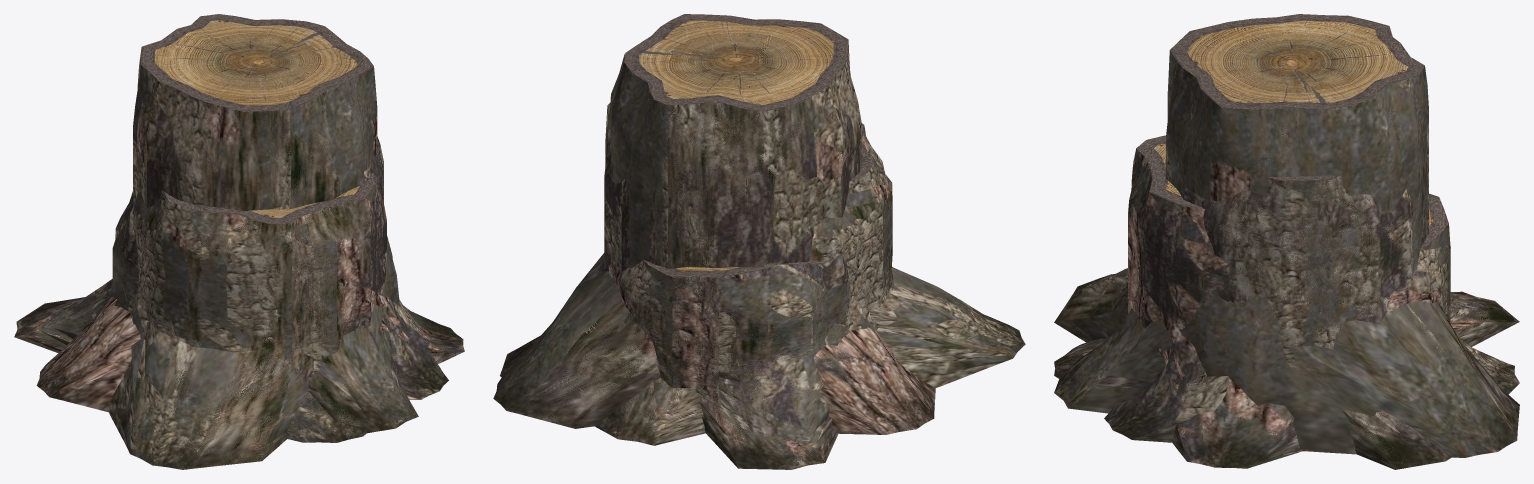
Rendered from stumpf.glb.
3 renders of one model, left to right at view 1: azimuth 30°, elevation 25°; view 2: azimuth 150°, elevation 25°; view 3: azimuth 270°, elevation 25°, orthographic. The views are drawn at different scales.
Visible parts, largest first — view 1: stumpf_0_1, stumpf_0_2, stumpf_2_2, stumpf_4_2, stumpf_4_1, stumpf_1_1, stumpf_2_1, stumpf_1_2, stumpf_3_0, stumpf_3_2, stumpf_4_3, stumpf_1_3 (+5 smaller); view 2: stumpf_1_1, stumpf_0_1, stumpf_2_1, stumpf_4_1, stumpf_2_2, stumpf_4_3, stumpf_1_3, stumpf_2_3, stumpf_3_0, stumpf_0_3, stumpf_4_2, stumpf_3_3 (+7 smaller); view 3: stumpf_4_1, stumpf_2_0, stumpf_1_0, stumpf_1_1, stumpf_0_1, stumpf_1_2, stumpf_3_2, stumpf_2_1, stumpf_4_0, stumpf_0_0, stumpf_0_2, stumpf_4_2 (+7 smaller).
Part boxes in pixels (x1=…): stumpf_0_1: x1=137, y1=14, x2=401, y2=433; stumpf_0_2: x1=109, y1=185, x2=461, y2=469; stumpf_2_2: x1=109, y1=181, x2=462, y2=469; stumpf_4_2: x1=114, y1=180, x2=459, y2=469; stumpf_4_1: x1=132, y1=14, x2=418, y2=425; stumpf_1_1: x1=133, y1=15, x2=415, y2=428; stumpf_2_1: x1=130, y1=15, x2=413, y2=430; stumpf_1_2: x1=121, y1=174, x2=464, y2=466; stumpf_3_0: x1=36, y1=156, x2=424, y2=412; stumpf_3_2: x1=136, y1=172, x2=464, y2=456; stumpf_4_3: x1=20, y1=193, x2=366, y2=442; stumpf_1_3: x1=17, y1=191, x2=361, y2=442; stumpf_1_1: x1=519, y1=14, x2=861, y2=428; stumpf_0_1: x1=508, y1=14, x2=861, y2=428; stumpf_2_1: x1=509, y1=14, x2=877, y2=427; stumpf_4_1: x1=494, y1=14, x2=876, y2=423; stumpf_2_2: x1=606, y1=124, x2=1021, y2=445; stumpf_4_3: x1=635, y1=260, x2=849, y2=468; stumpf_1_3: x1=644, y1=253, x2=849, y2=469; stumpf_2_3: x1=609, y1=253, x2=849, y2=469; stumpf_3_0: x1=607, y1=103, x2=935, y2=434; stumpf_0_3: x1=613, y1=260, x2=842, y2=469; stumpf_4_2: x1=597, y1=132, x2=1025, y2=445; stumpf_3_3: x1=609, y1=259, x2=815, y2=469; stumpf_4_1: x1=1054, y1=14, x2=1519, y2=457; stumpf_2_0: x1=1113, y1=179, x2=1441, y2=469; stumpf_1_0: x1=1104, y1=110, x2=1450, y2=469; stumpf_1_1: x1=1054, y1=14, x2=1519, y2=448; stumpf_0_1: x1=1056, y1=14, x2=1512, y2=447; stumpf_1_2: x1=1056, y1=135, x2=1514, y2=467; stumpf_3_2: x1=1055, y1=136, x2=1512, y2=467; stumpf_2_1: x1=1055, y1=14, x2=1518, y2=439; stumpf_4_0: x1=1285, y1=180, x2=1394, y2=469; stumpf_0_0: x1=1130, y1=165, x2=1451, y2=469; stumpf_0_2: x1=1054, y1=144, x2=1514, y2=467; stumpf_4_2: x1=1056, y1=137, x2=1517, y2=468.
Bounding box in the file's own units: 1 × 0.7572 × 1.
Materials: 5 (5 with a texture image).
